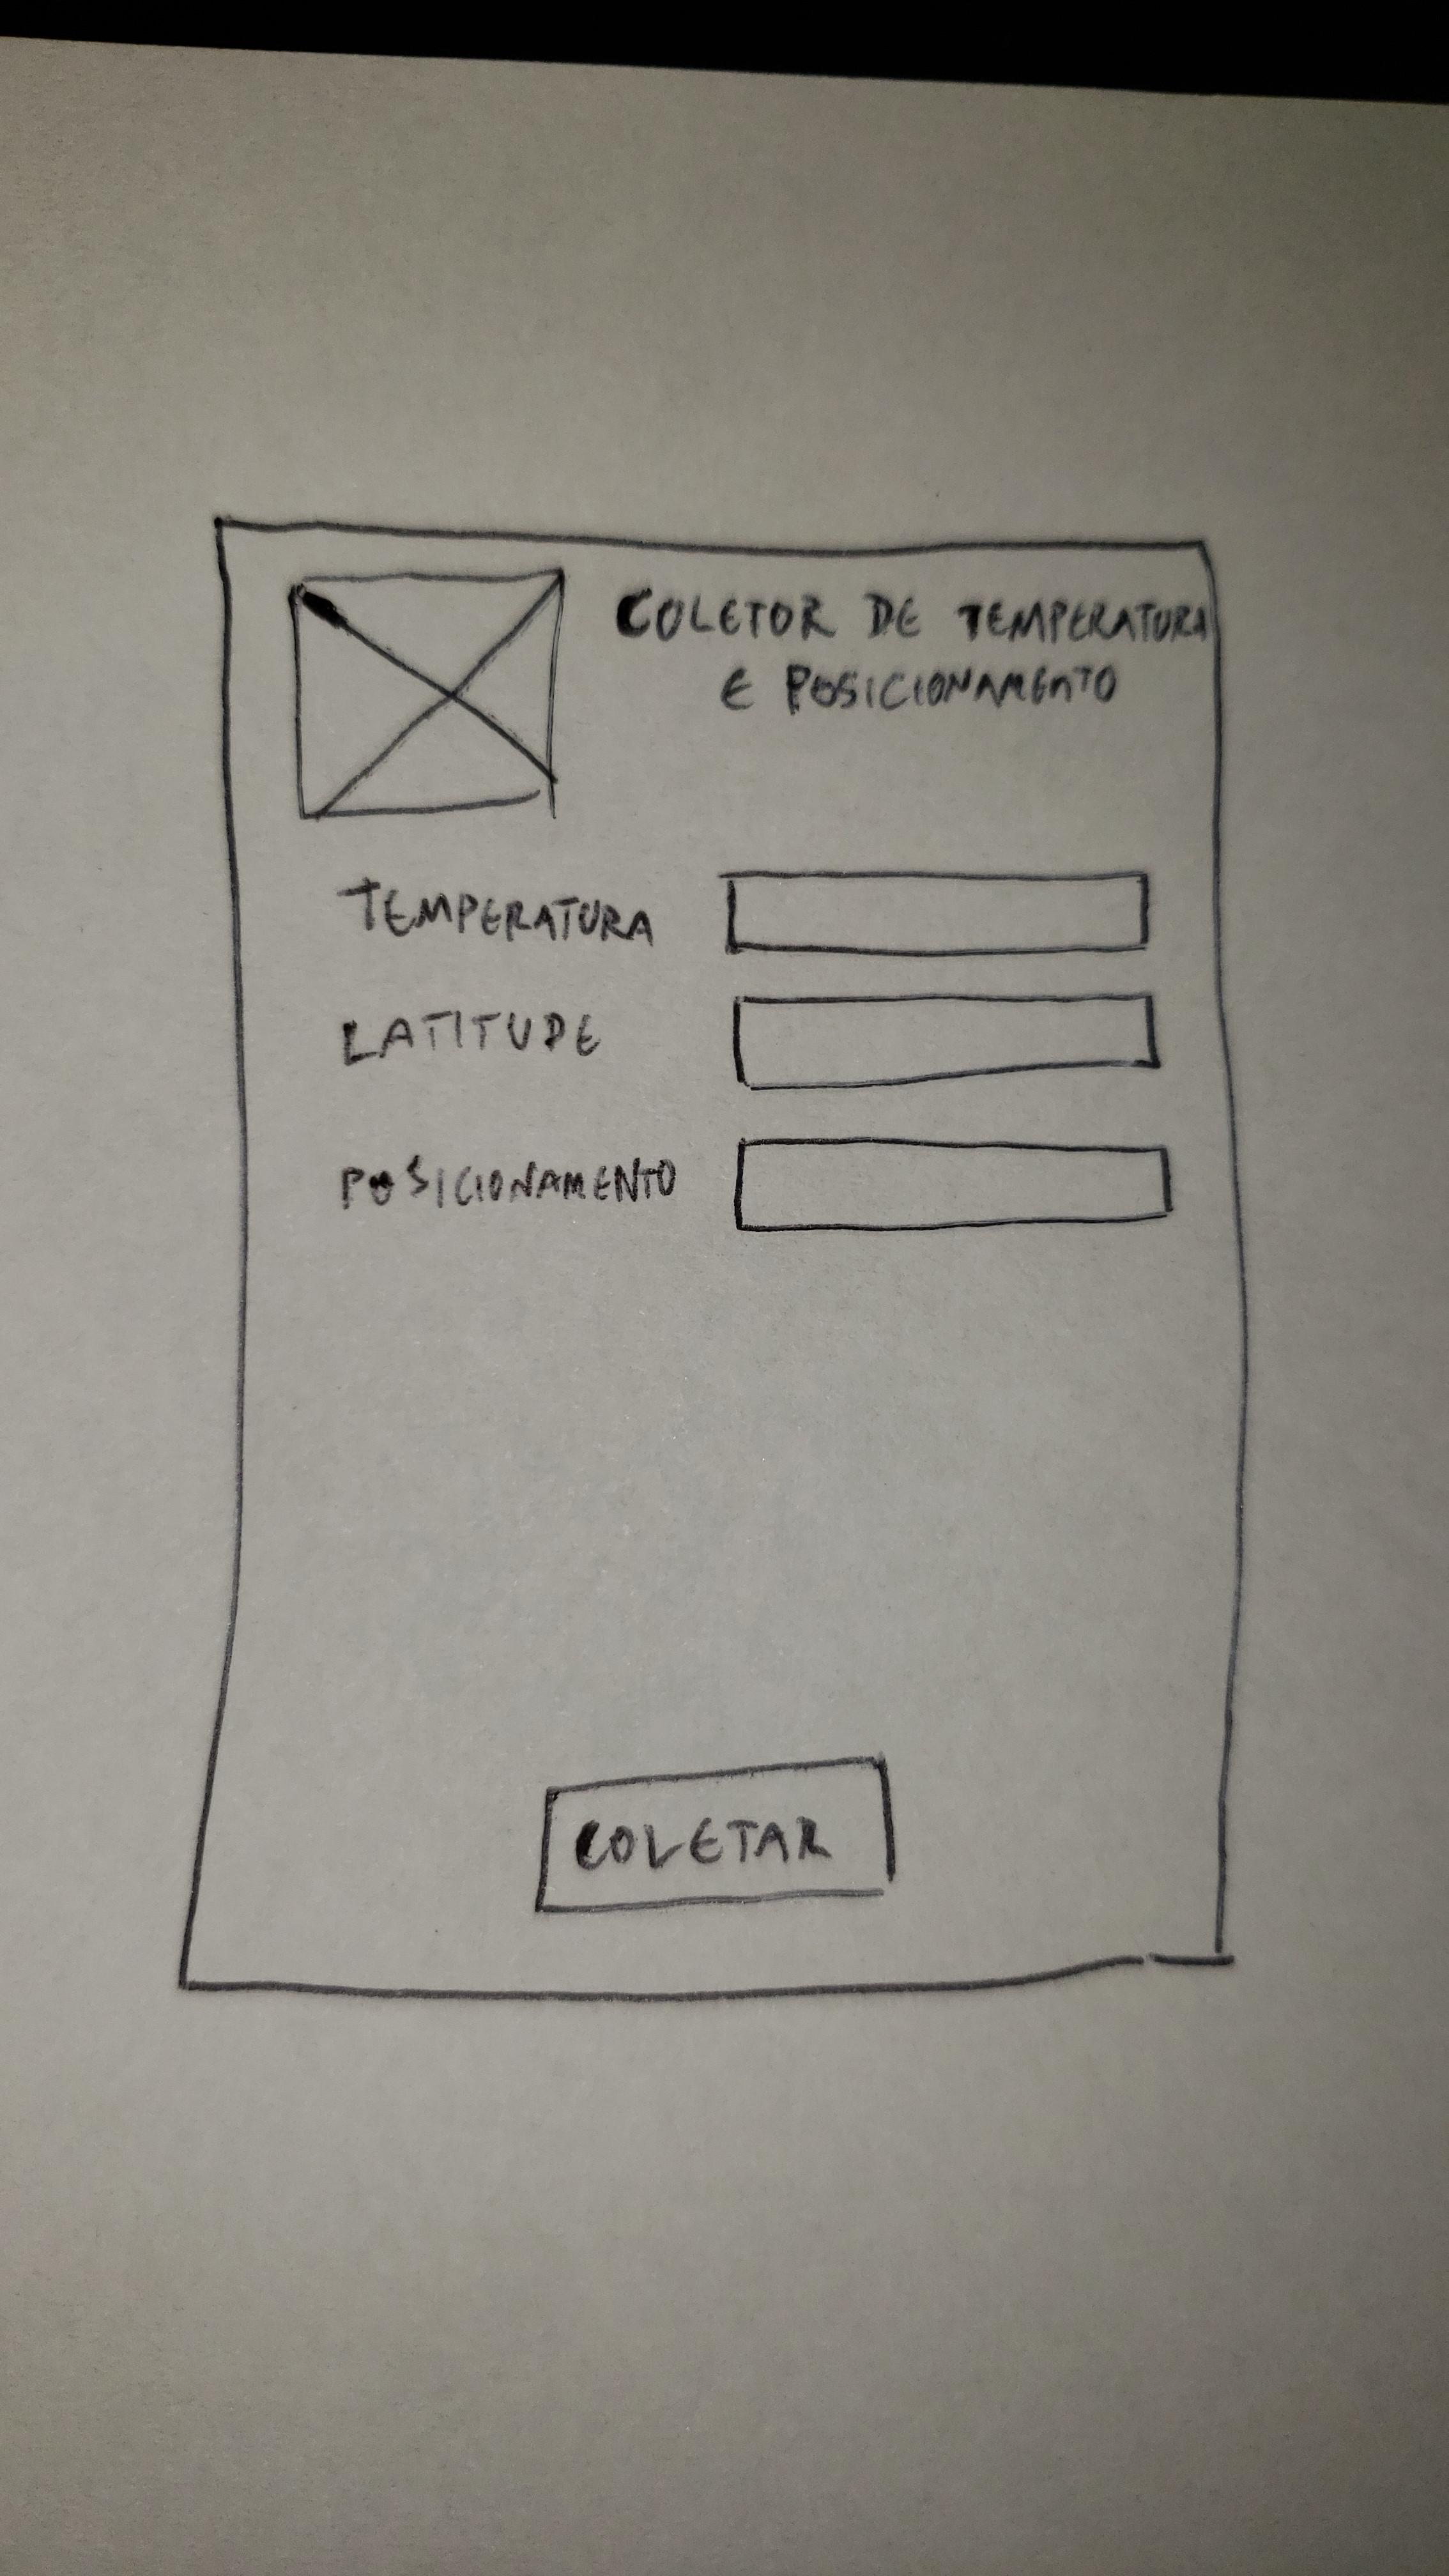Button: (536, 1757, 899, 1914)
Image: (288, 566, 564, 821)
Label: (614, 580, 1217, 720), (338, 874, 656, 947), (336, 1155, 681, 1215), (338, 1007, 603, 1069)
Screen: (177, 515, 1249, 2001)
TextBox: (729, 993, 1162, 1090), (731, 1136, 1175, 1230), (725, 867, 1152, 957)
